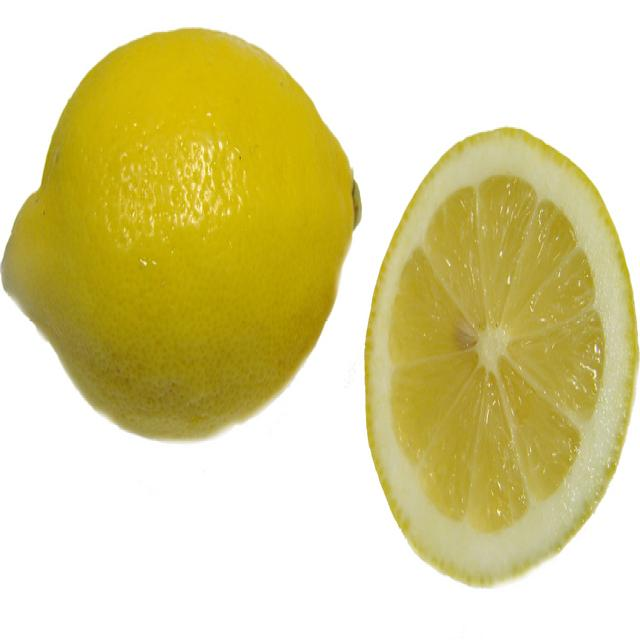lemon: (0, 0, 365, 444), (360, 114, 640, 576)
